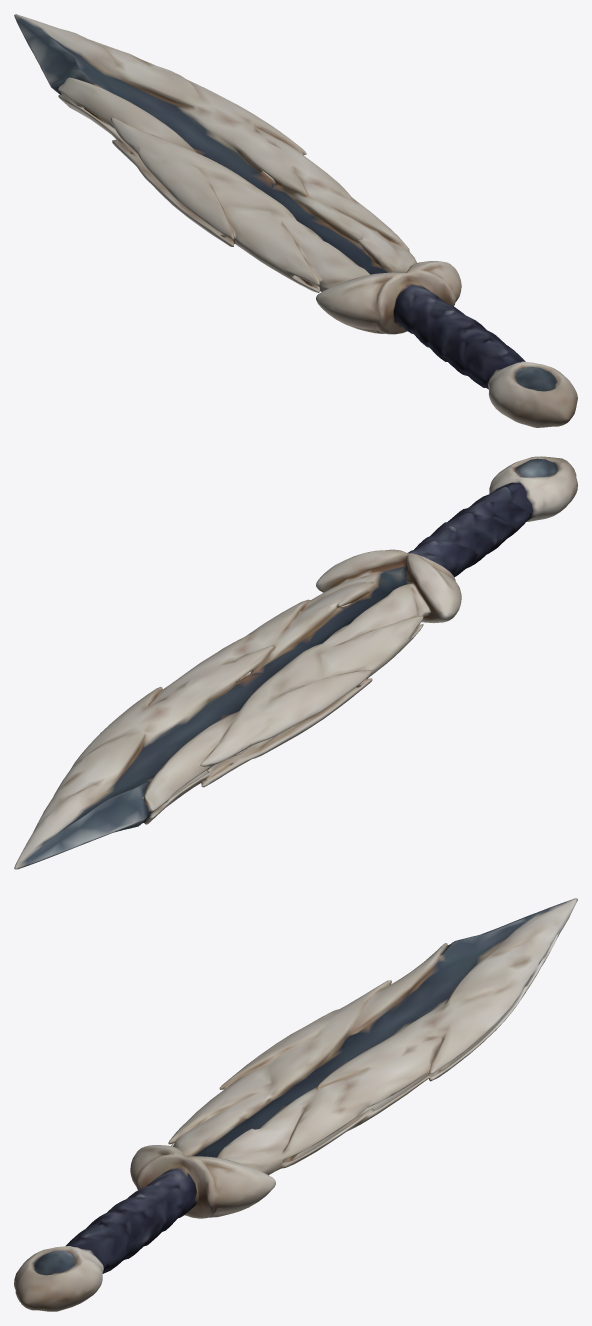
Rendered from QusapSword_WeaponGrip_v7_B.fbx.
3 views of the same model, one above another, from view 1: azimuth 30°, elevation 25°; view 2: azimuth 150°, elevation 25°; view 3: azimuth 330°, elevation 25° (orthographic).
Parts seen in each view (by area): view 1: SwordVisual_v7_B; view 2: SwordVisual_v7_B; view 3: SwordVisual_v7_B.
Boxes of the visible parts, <box> form: SwordVisual_v7_B: <box>14,14,577,427</box>; SwordVisual_v7_B: <box>14,456,577,869</box>; SwordVisual_v7_B: <box>14,898,577,1311</box>.
Bounding box in the file's own units: 0.1478 × 0.0575 × 0.9597.
